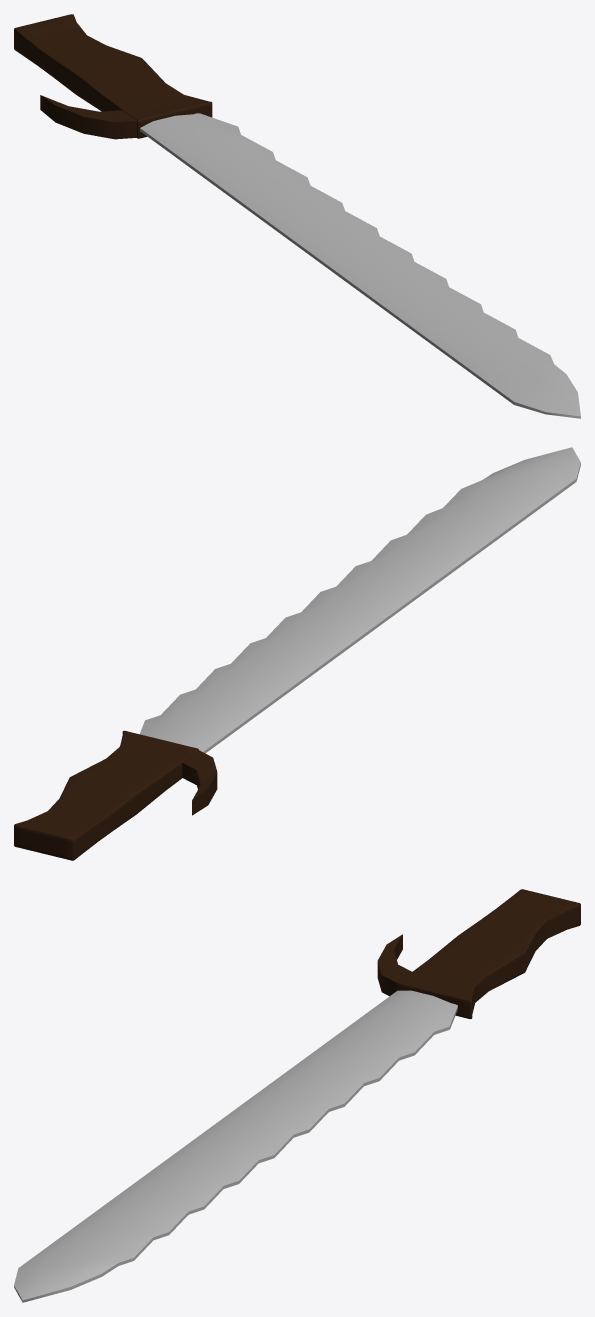
The model's file is Bayonette.fbx.
The picture shows the model from 3 angles, top to bottom: view 1: azimuth 30°, elevation 25°; view 2: azimuth 150°, elevation 25°; view 3: azimuth 330°, elevation 25°; orthographic projection.
Visible parts, largest first — view 1: polySurface3; view 2: polySurface3; view 3: polySurface3.
Part boxes in pixels (x1,y1,x2,y2): polySurface3: [14, 14, 580, 418]; polySurface3: [14, 447, 580, 860]; polySurface3: [14, 889, 580, 1302].
Size of the model in its own units: 122 by 20.91 by 913.
